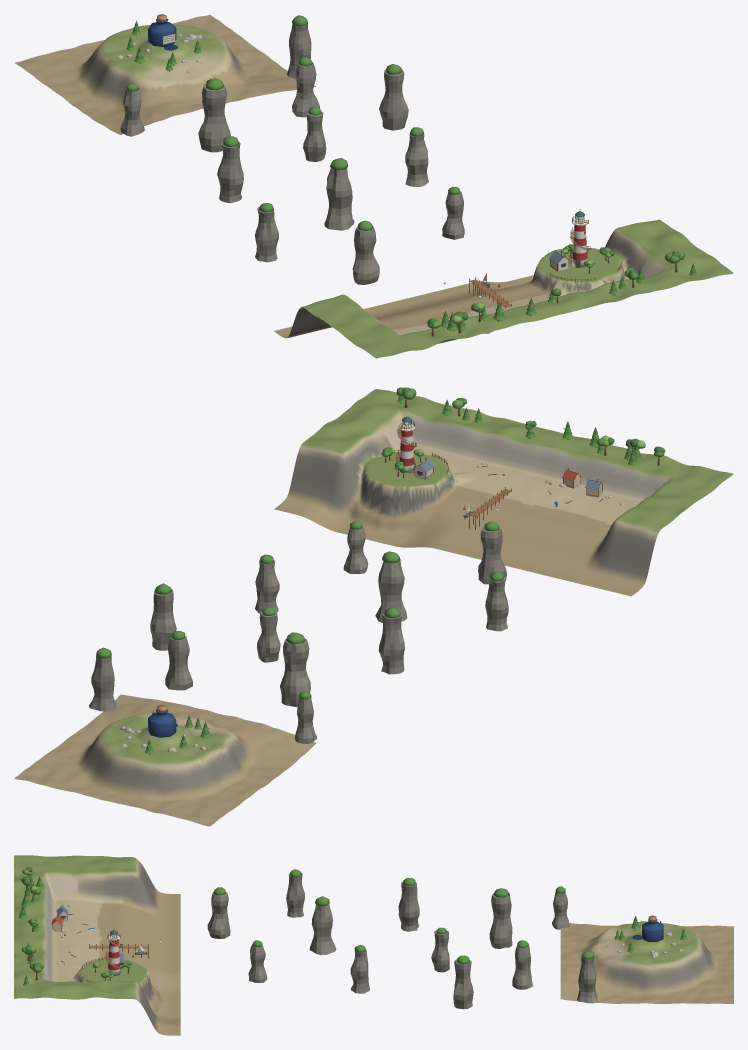
The model's file is folded_sea.glb.
The picture shows the model from 3 angles, top to bottom: view 1: azimuth 30°, elevation 25°; view 2: azimuth 150°, elevation 25°; view 3: azimuth 270°, elevation 25°; orthographic projection. The views are drawn at different scales.
Parts seen in each view (by area): view 1: terrain, terrain_island, object 17, object 19, object 15, object 13, object 21, object 3, object 7, object 11, object 26; view 2: terrain, terrain_island, object 17, object 19, object 15, object 21, object 13, object 3, object 7, object 11, object 26, object 10; view 3: terrain, terrain_island, object 17, object 19, object 15, object 21, object 13, object 3, object 7, object 11, object 26, object 10.
Boxes of the visible parts, left/top/right/bottom form: terrain: left=274, top=219, right=733, bottom=358; terrain_island: left=14, top=15, right=315, bottom=134; object 17: left=120, top=84, right=243, bottom=203; object 19: left=292, top=62, right=408, bottom=161; object 15: left=255, top=168, right=354, bottom=262; object 13: left=405, top=133, right=464, bottom=239; object 21: left=148, top=14, right=311, bottom=78; object 3: left=469, top=209, right=621, bottom=307; object 7: left=352, top=226, right=505, bottom=308; object 11: left=427, top=298, right=536, bottom=330; object 26: left=548, top=251, right=697, bottom=303; terrain: left=274, top=389, right=733, bottom=596; terrain_island: left=14, top=694, right=316, bottom=826; object 17: left=280, top=613, right=405, bottom=743; object 19: left=150, top=589, right=280, bottom=690; object 15: left=375, top=559, right=508, bottom=631; object 21: left=89, top=655, right=179, bottom=747; object 13: left=255, top=527, right=368, bottom=613; object 3: left=384, top=414, right=511, bottom=528; object 7: left=475, top=488, right=572, bottom=584; object 11: left=562, top=421, right=665, bottom=465; object 26: left=396, top=387, right=536, bottom=438; object 10: left=545, top=428, right=659, bottom=505; terrain: left=14, top=855, right=180, bottom=1035; terrain_island: left=560, top=921, right=733, bottom=1003; object 17: left=398, top=882, right=569, bottom=948; object 19: left=431, top=930, right=533, bottom=1009; object 15: left=286, top=873, right=336, bottom=955; object 21: left=577, top=915, right=683, bottom=1003; object 13: left=248, top=944, right=369, bottom=993; object 3: left=80, top=928, right=148, bottom=982; object 7: left=76, top=892, right=230, bottom=946; object 11: left=18, top=867, right=65, bottom=919; object 26: left=21, top=919, right=43, bottom=985; object 10: left=20, top=875, right=73, bottom=937.
Size of the model in its own units: 124 by 31.56 by 266.
